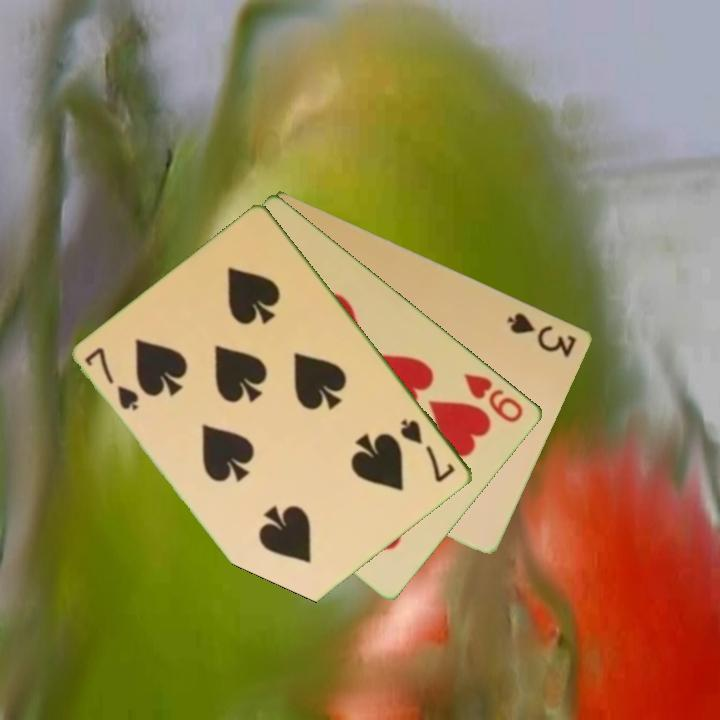3s: (504, 308, 580, 361)
7s: (397, 415, 459, 486), (81, 343, 143, 414)
9h: (461, 369, 527, 426)
